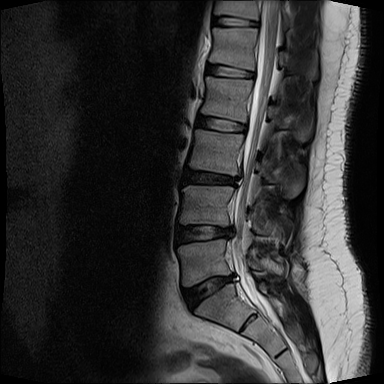Lumbar Disc Bulge (LDB): (177, 268, 247, 316), (166, 216, 242, 253), (173, 165, 250, 196)
Normal IVD: (197, 58, 258, 86), (186, 112, 251, 138), (205, 14, 261, 33)
Spinal Stenosis (SS): (221, 220, 240, 246), (229, 167, 246, 193), (227, 266, 244, 289)
